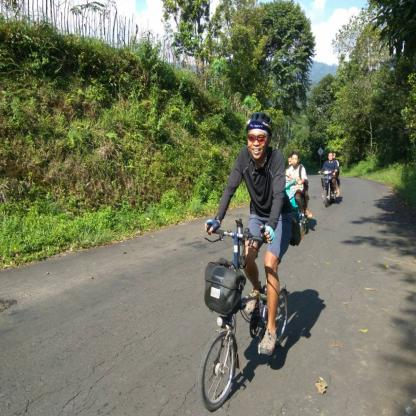Bike: (198, 210, 298, 415)
